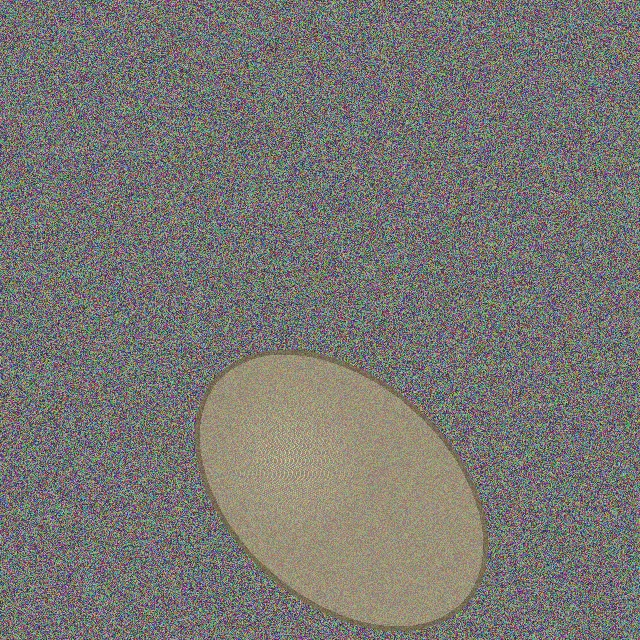lens: (197, 352, 485, 628)
